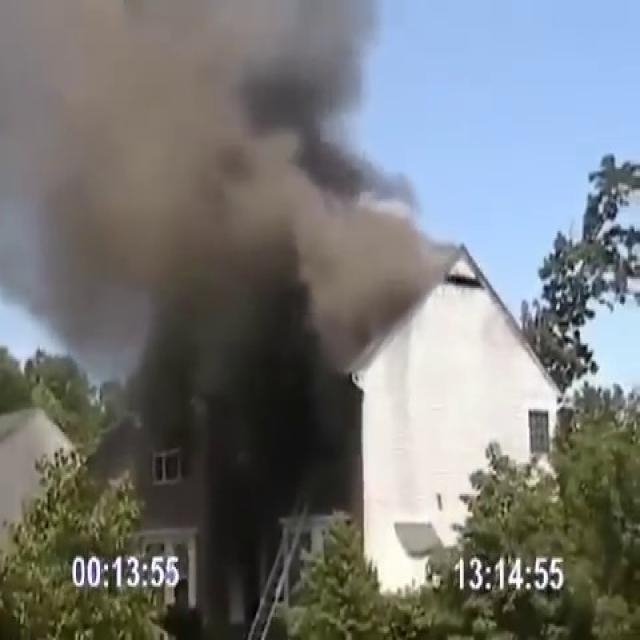Smoke: (1, 0, 462, 419)
